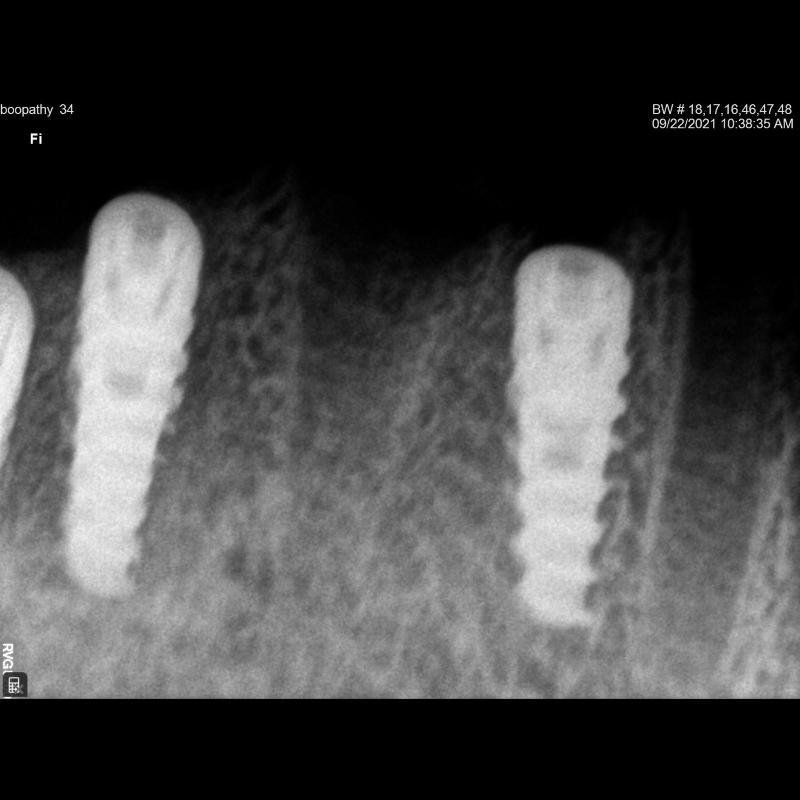ADIN: (34, 191, 236, 611), (482, 226, 636, 642)
